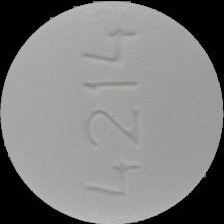43353-662: (0, 0, 224, 224)
